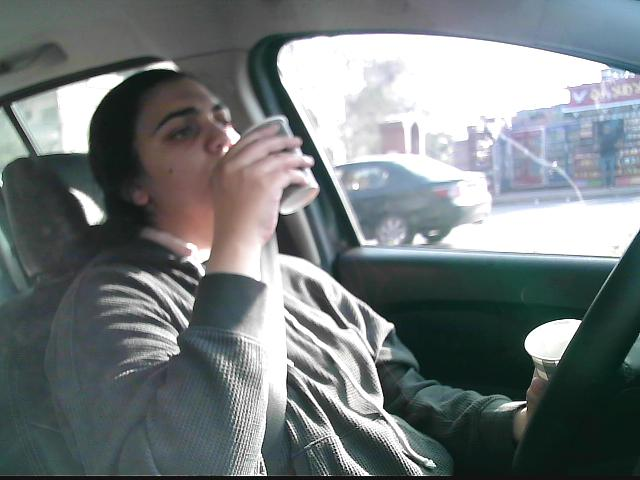Drinking: (231, 110, 321, 217), (523, 313, 597, 412)
